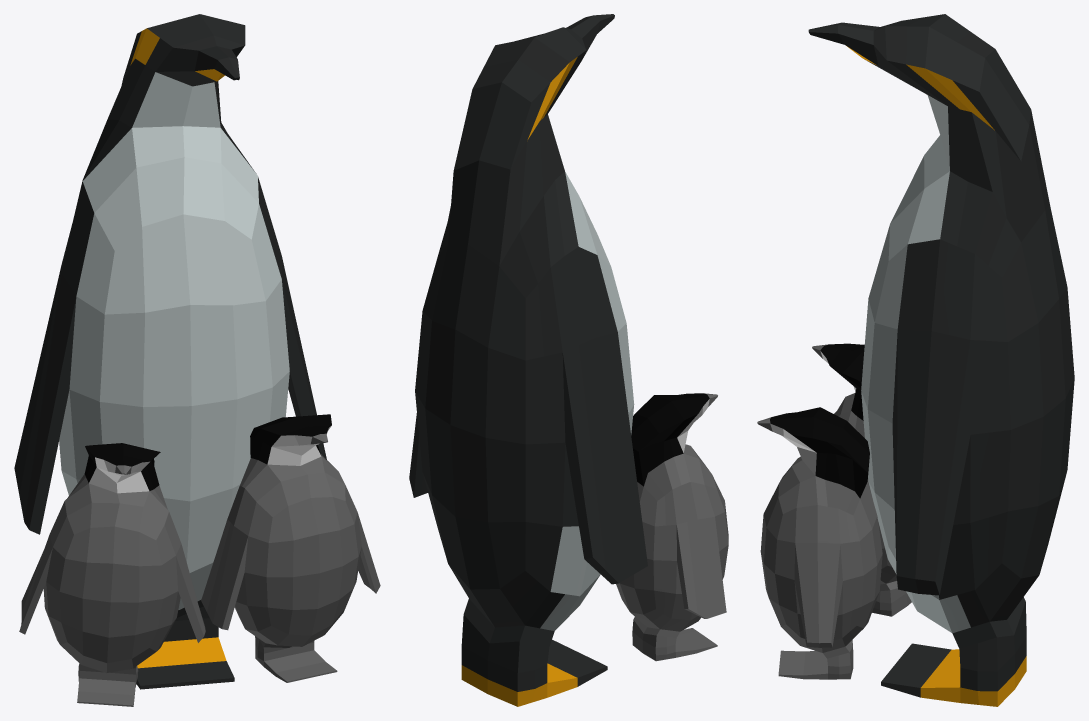
File: penguinwithchildren.gltf
The picture shows the model from 3 angles, left to right: view 1: azimuth 30°, elevation 25°; view 2: azimuth 150°, elevation 25°; view 3: azimuth 270°, elevation 25°; orthographic projection. The views are drawn at different scales.
Visible parts, largest first — view 1: Cube.024, Cube.005, Cube.006; view 2: Cube.024, Cube.006; view 3: Cube.024, Cube.005, Cube.006.
Boxes of the visible parts, <box> form: Cube.024: <box>14,14,326,689</box>; Cube.005: <box>201,414,380,682</box>; Cube.006: <box>19,443,205,706</box>; Cube.024: <box>409,14,647,706</box>; Cube.006: <box>616,393,728,661</box>; Cube.024: <box>808,14,1074,706</box>; Cube.005: <box>757,407,882,679</box>; Cube.006: <box>812,343,911,616</box>.
Size of the model in its own units: 0.9934 by 1.96 by 0.854.
